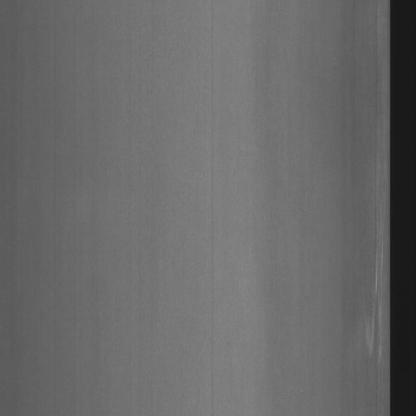silk_spot: (362, 16, 389, 375)
